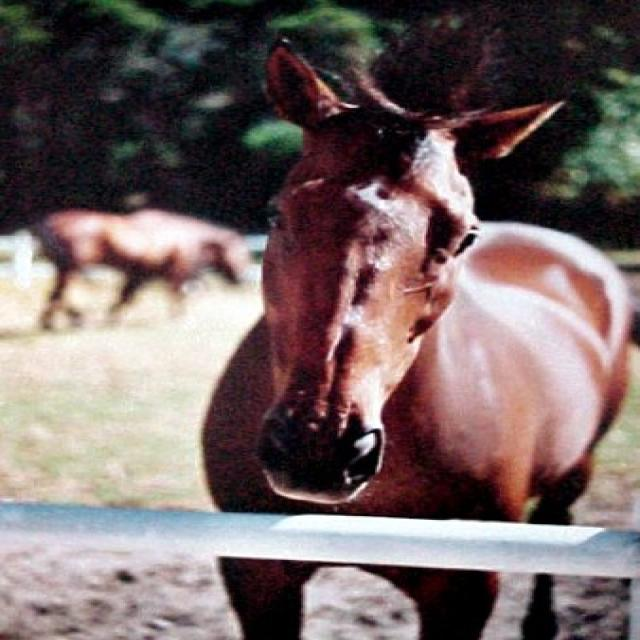horse: (204, 34, 639, 640), (29, 209, 249, 332)
